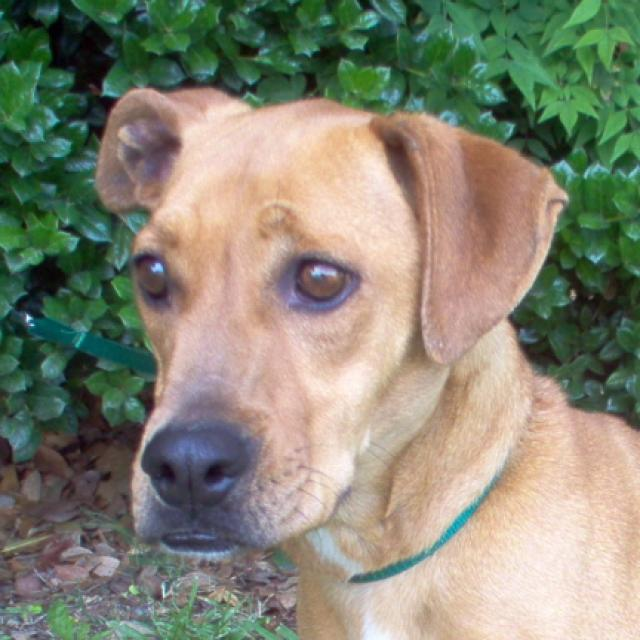Dogs: (94, 82, 638, 639)
